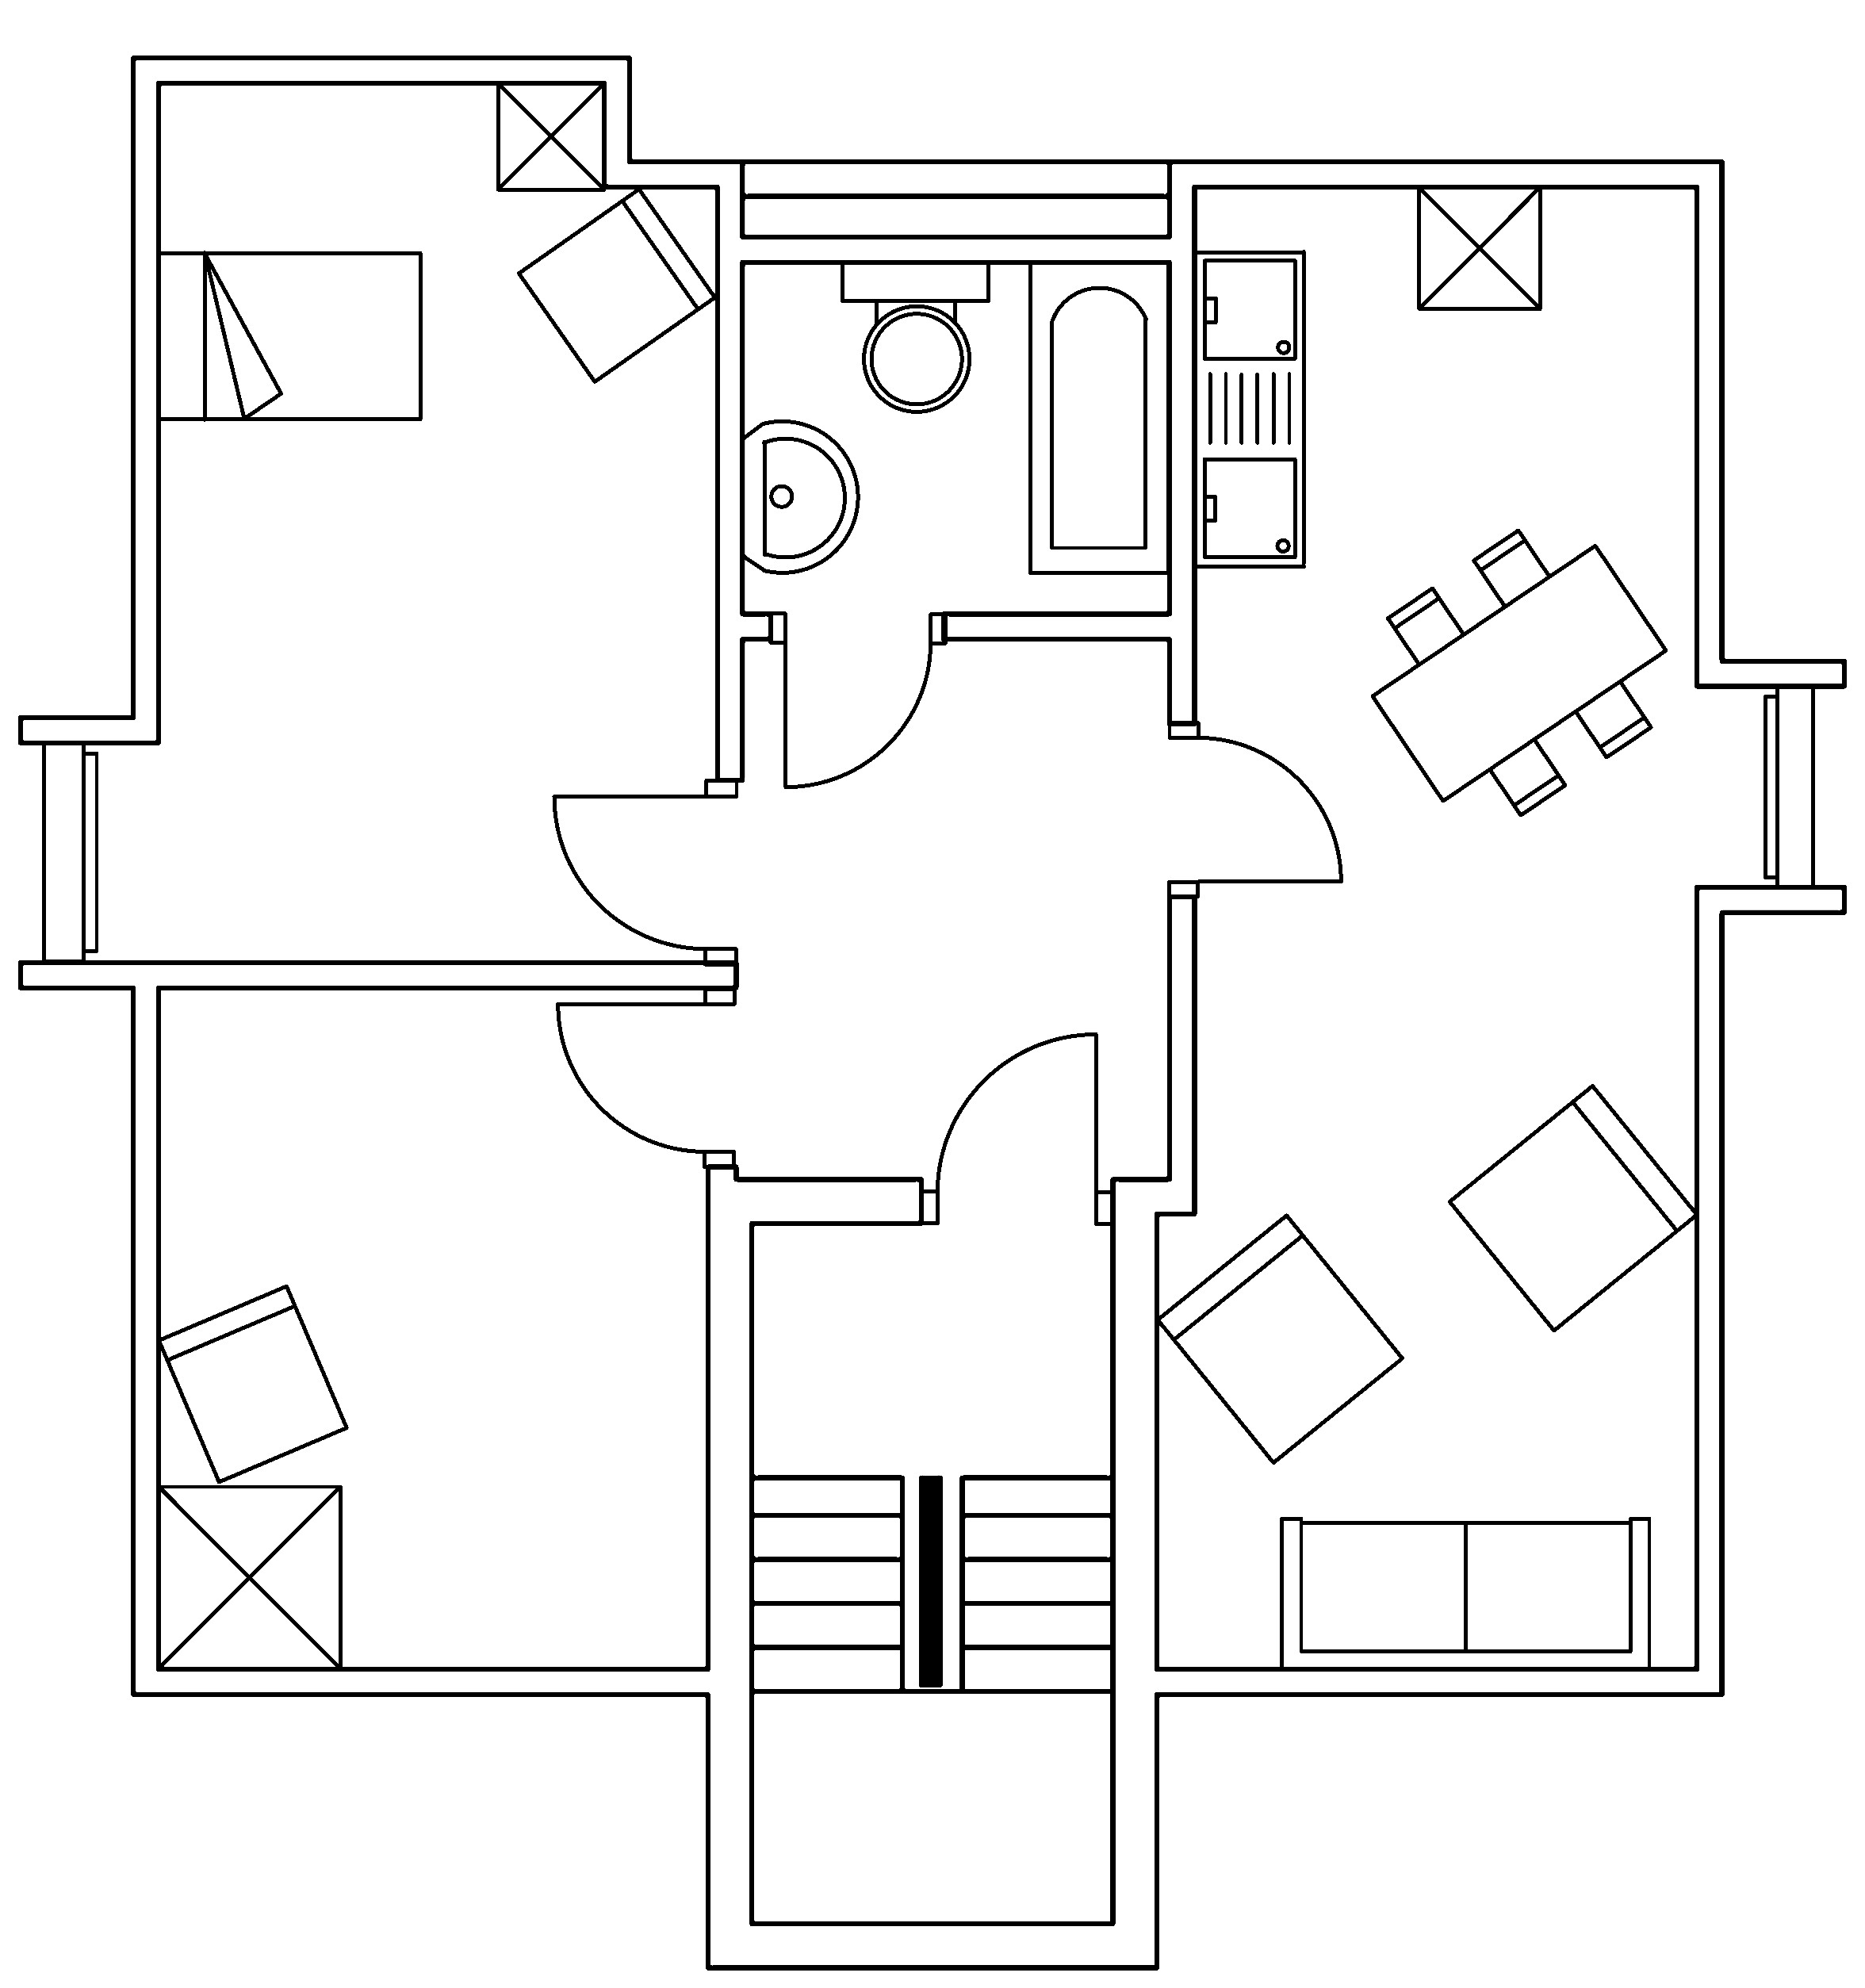bed: (154, 249, 422, 422)
coffee_table: (154, 1481, 342, 1671), (1416, 182, 1542, 310), (494, 79, 606, 191)
dining_table: (1369, 526, 1669, 817)
large_sink: (840, 258, 990, 412)
large_sofa: (1278, 1515, 1651, 1672)
small_sink: (740, 419, 859, 573)
small_sofa: (1153, 1211, 1406, 1464), (1446, 1082, 1698, 1332), (515, 186, 717, 384), (156, 1282, 349, 1485)
tub: (1027, 258, 1171, 575)
twin_sink: (1192, 247, 1308, 570)
